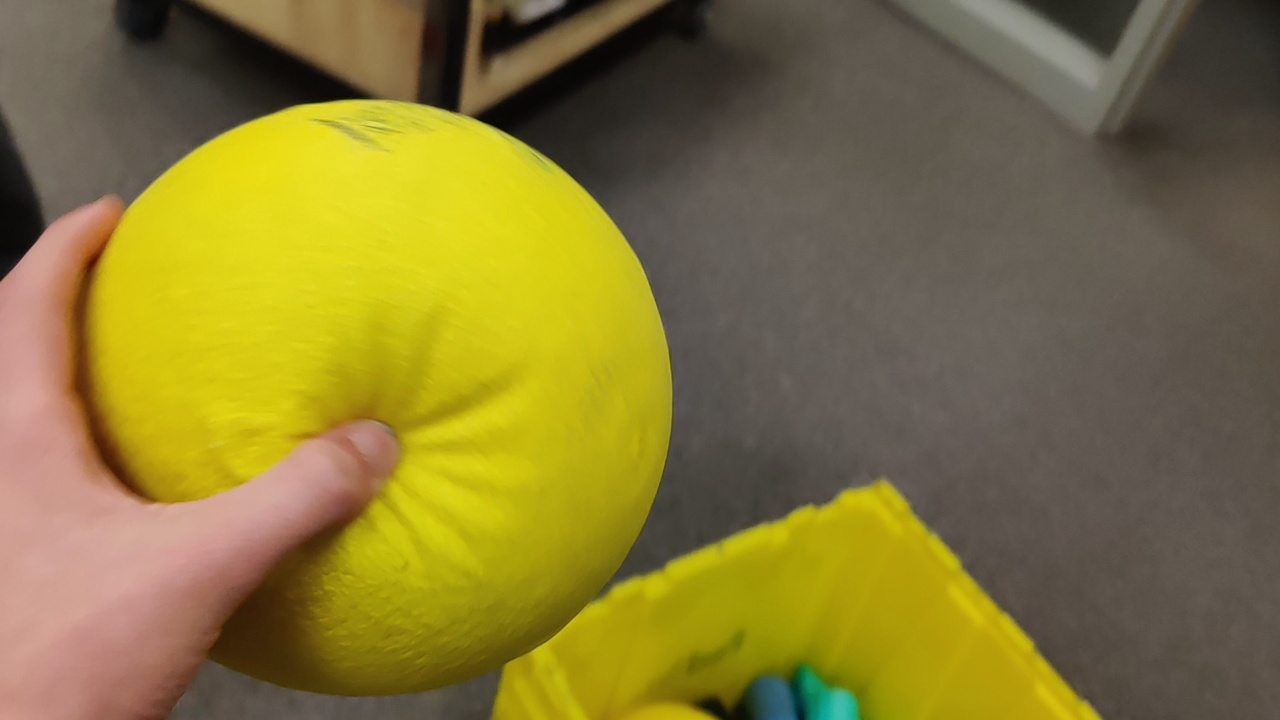Ball: (125, 97, 671, 694)
